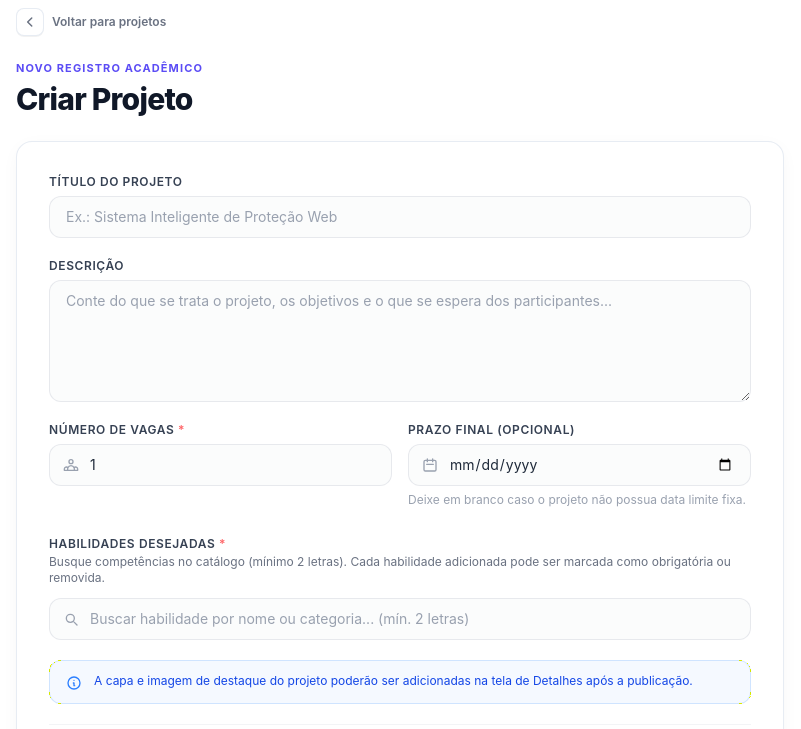
CriarProjeto › busca habilidades no backend (debounced) em vez de carregar o catálogo inteiro
Type "rea" into the field with placeholder "Buscar habilidade por nome ou categoria... (mín. 2 letras)" at (400, 618), box [49,598,751,640]
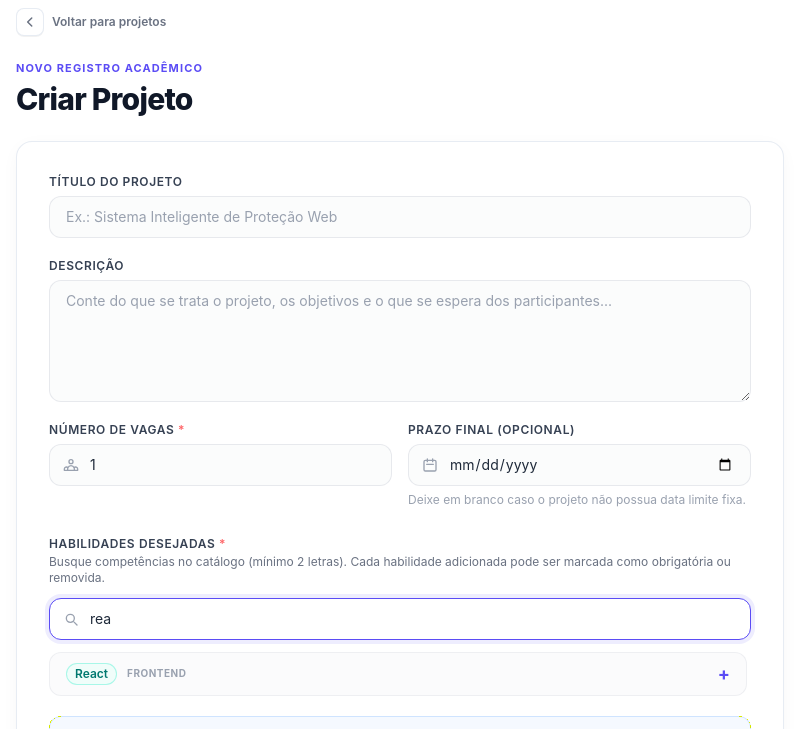
Click the button "React Frontend +" at (92, 674), box [49,652,747,696]
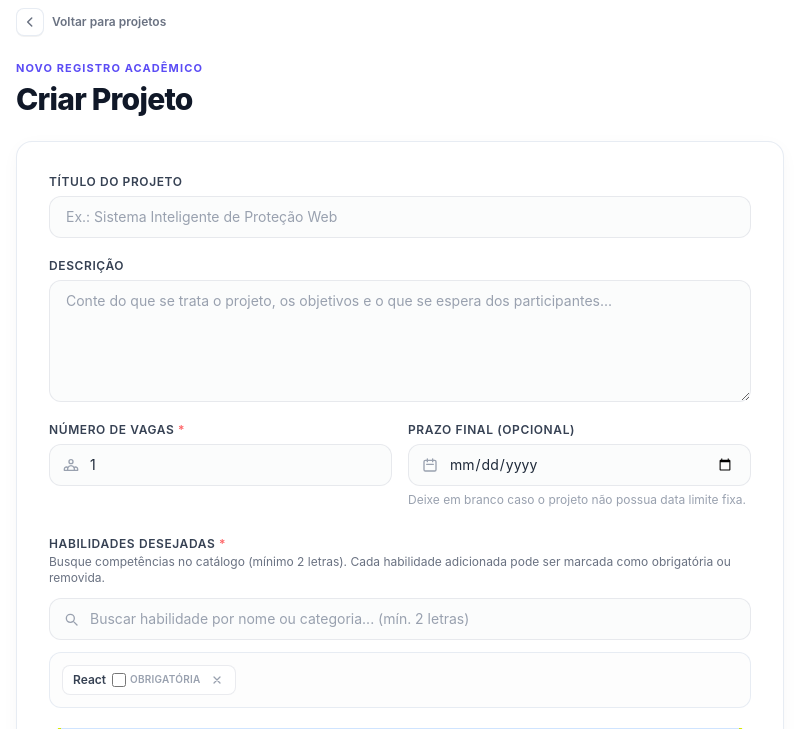
Check: the text "Obrigatória" is shown, box [130,673,200,686]
